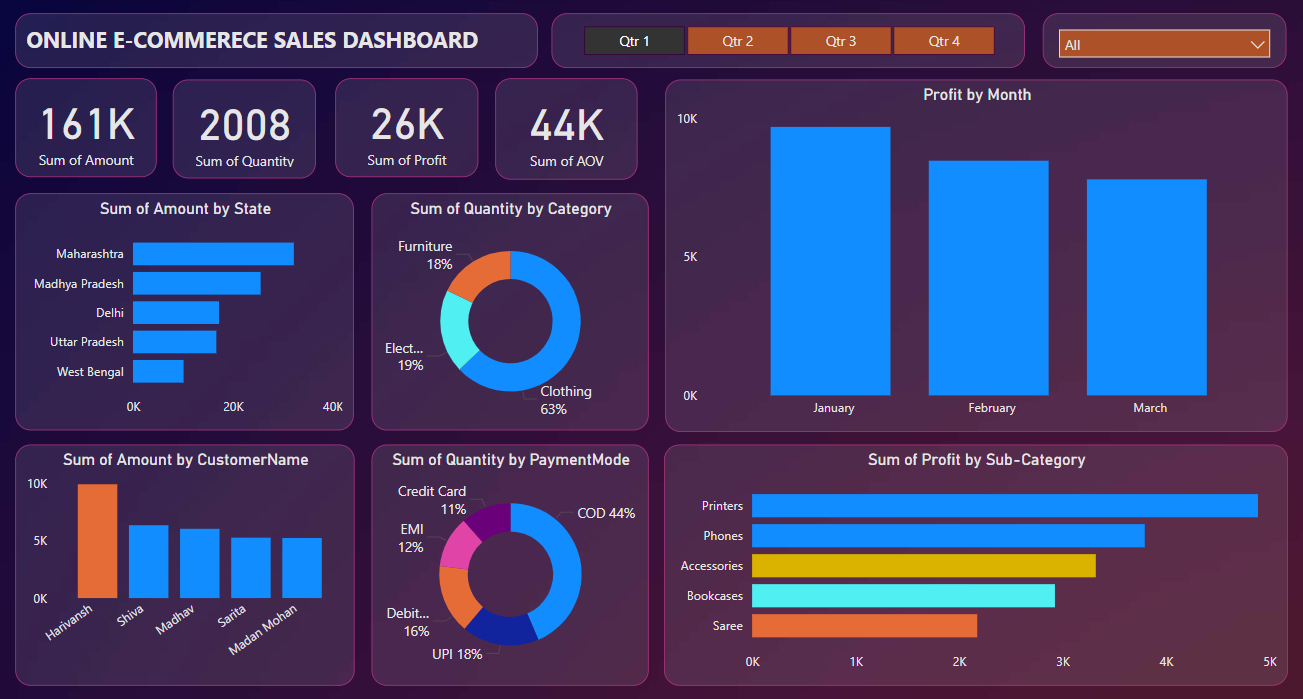

What the dashboard file says about the page in this screenshot:
{"tool":"powerbi","page":{"name":"Page 1","canvas":[1280,720],"ordinal":0},"visuals":[{"type":"textbox","box":[20.8,15.9,511.1,53.8],"z":0},{"type":"columnChart","title":"Profit by Month","fields":{"Y":["Details.Profit"],"Category":["Orders.Order Date.Variation.Date Hierarchy.Month"]},"box":[656.7,80.7,609,344.8],"z":1000},{"type":"barChart","fields":{"Category":["Details.Sub-Category"],"Y":["Details.Profit"]},"box":[655.4,437.8,610.2,236],"z":2000},{"type":"donutChart","fields":{"Category":["Details.Category"],"Y":["Details.Quantity"]},"box":[369.3,192,271.5,232.3],"z":3000},{"type":"donutChart","fields":{"Y":["Details.Quantity"],"Category":["Details.PaymentMode"]},"box":[369.3,437.8,271.5,236],"z":4000},{"type":"card","fields":{"Values":["Details.Amount"]},"box":[20.8,79.5,138.2,96.6],"z":5000},{"type":"card","fields":{"Values":["Details.AOV"]},"box":[490.4,79.5,139.4,99],"z":6000},{"type":"card","fields":{"Values":["Details.Quantity"]},"box":[175,80.5,140,96.8],"z":7000},{"type":"card","fields":{"Values":["Details.Profit"]},"box":[333.7,79.3,140,96.8],"z":8000},{"type":"barChart","fields":{"Category":["Orders.State"],"Y":["Details.Amount"]},"box":[20.8,192,331.4,232.3],"z":9000},{"type":"columnChart","fields":{"Category":["Orders.CustomerName"],"Y":["Details.Amount"]},"box":[20.6,437.7,332.1,236],"z":10000},{"type":"slicer","fields":{"Values":["Orders.Order Date.Variation.Date Hierarchy.Quarter"]},"box":[545.4,15.9,463.5,53.8],"z":11000},{"type":"slicer","fields":{"Values":["Orders.State"]},"box":[1026,15.9,238.5,53.8],"z":12000}]}

Visuals, with their boxes on the page's 1280x720 design canvas (x1, y1, x2, y2). These are canvas units, not pixel positions in the 1303x699 screenshot, which may show the page scaled, cropped or inside an application window:
textbox: l=21, t=16, r=532, b=70
"Profit by Month" columnChart: l=657, t=81, r=1266, b=426
barChart - Details.Sub-Category x Details.Profit: l=655, t=438, r=1266, b=674
donutChart - Details.Category x Details.Quantity: l=369, t=192, r=641, b=424
donutChart - Details.Quantity x Details.PaymentMode: l=369, t=438, r=641, b=674
card - Details.Amount: l=21, t=80, r=159, b=176
card - Details.AOV: l=490, t=80, r=630, b=178
card - Details.Quantity: l=175, t=80, r=315, b=177
card - Details.Profit: l=334, t=79, r=474, b=176
barChart - Orders.State x Details.Amount: l=21, t=192, r=352, b=424
columnChart - Orders.CustomerName x Details.Amount: l=21, t=438, r=353, b=674
slicer - Orders.Order Date.Variation.Date Hierarchy.Quarter: l=545, t=16, r=1009, b=70
slicer - Orders.State: l=1026, t=16, r=1264, b=70
